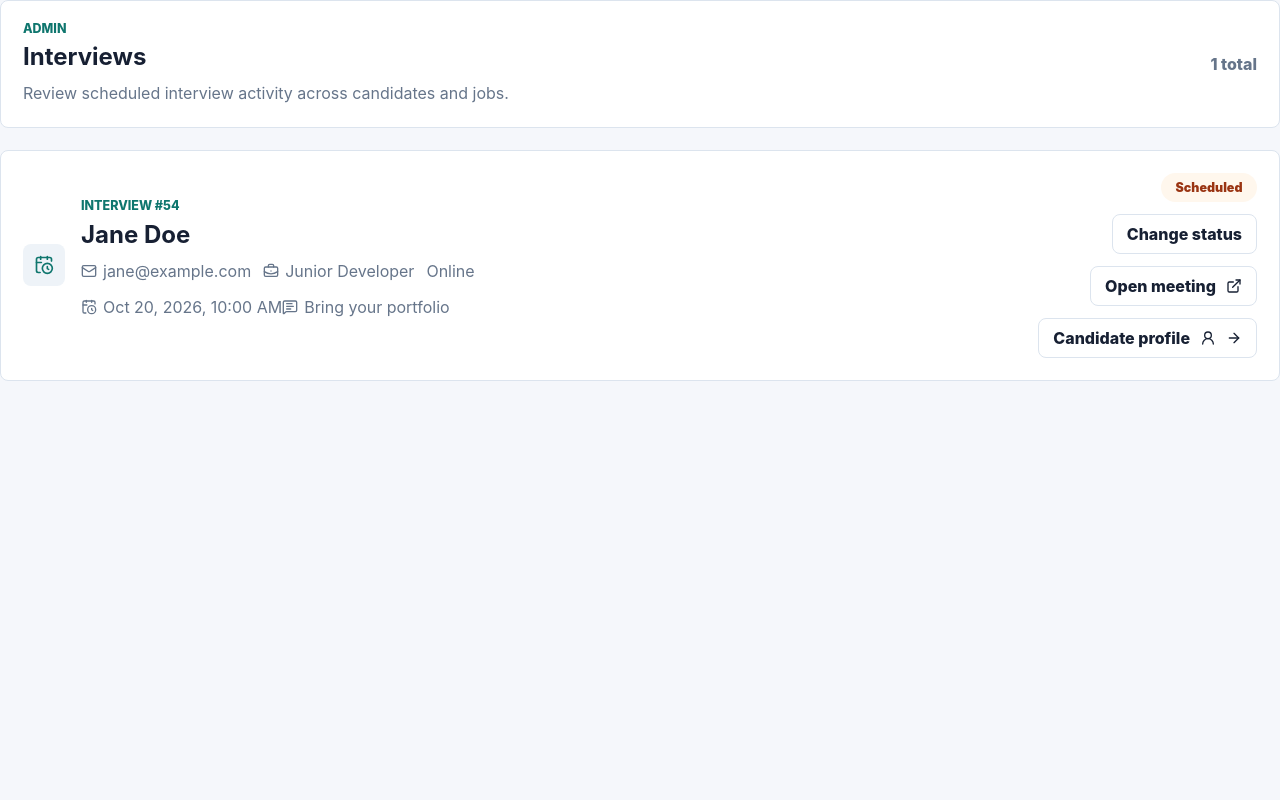
it: AdminInterviewsPage › closes the status dialog with Escape and restores focus to Change status
Click the button "Change status" at {"x": 1184, "y": 234}, box [1112, 214, 1257, 254]
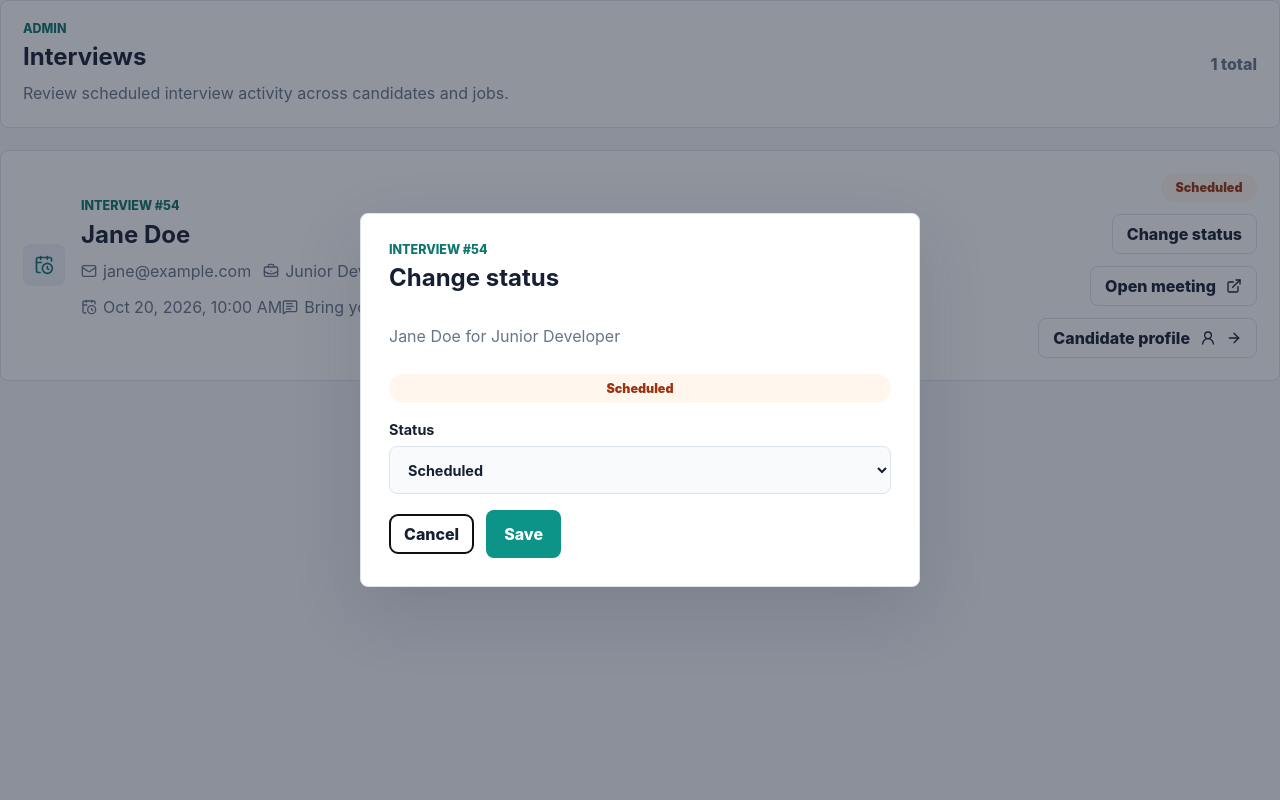
Expected: the dialog is shown, [360, 213, 920, 587]
Press Escape
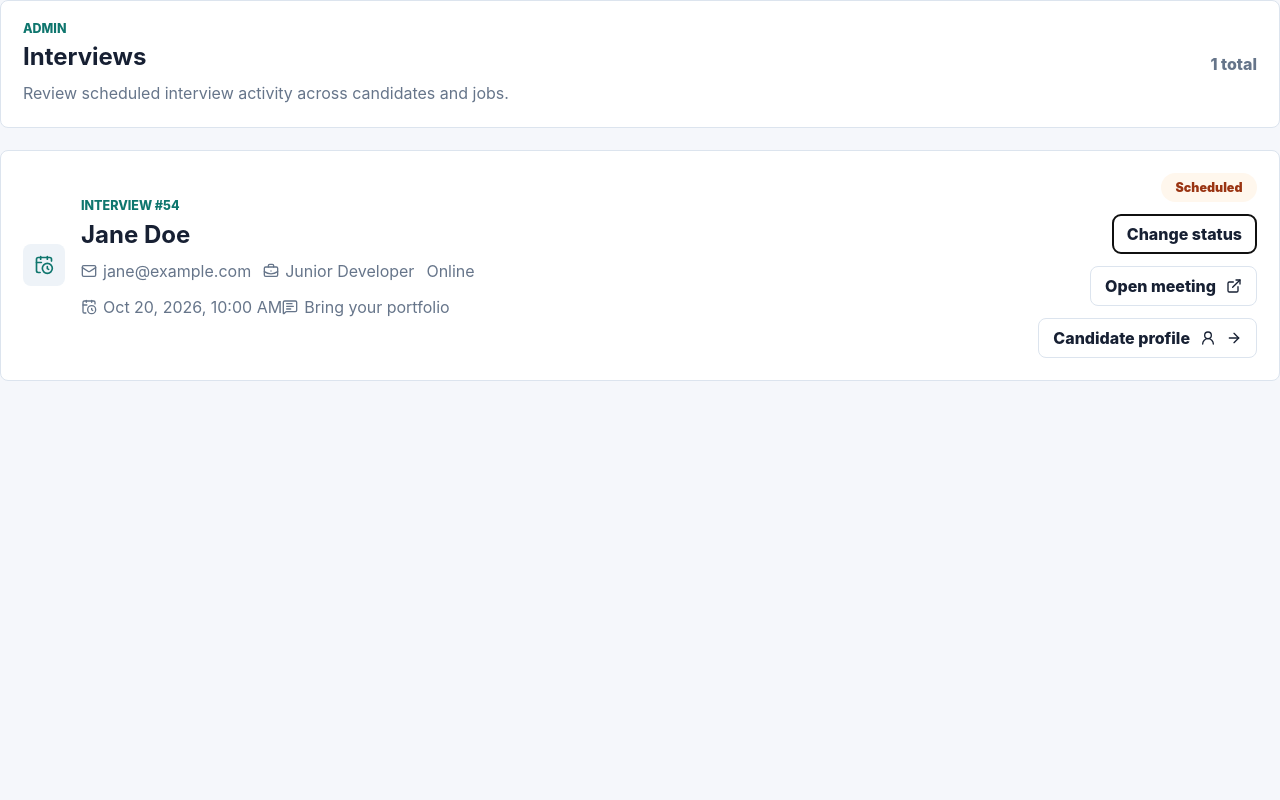
Expected: the dialog is gone
